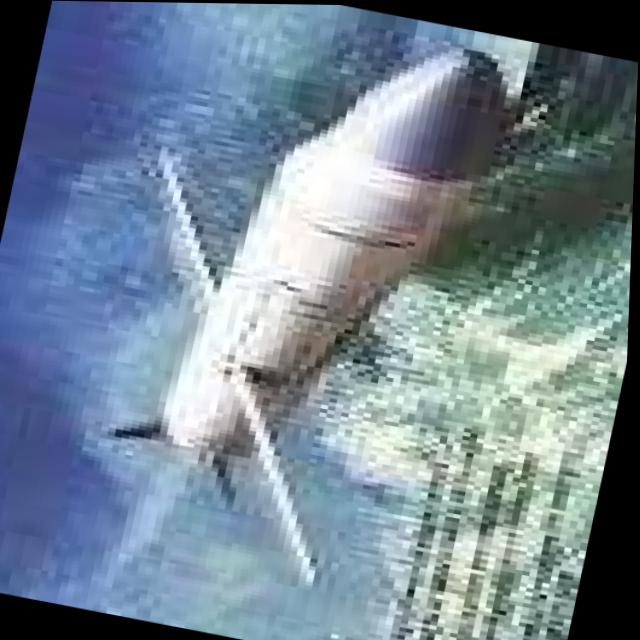missile: (67, 1, 514, 609)
